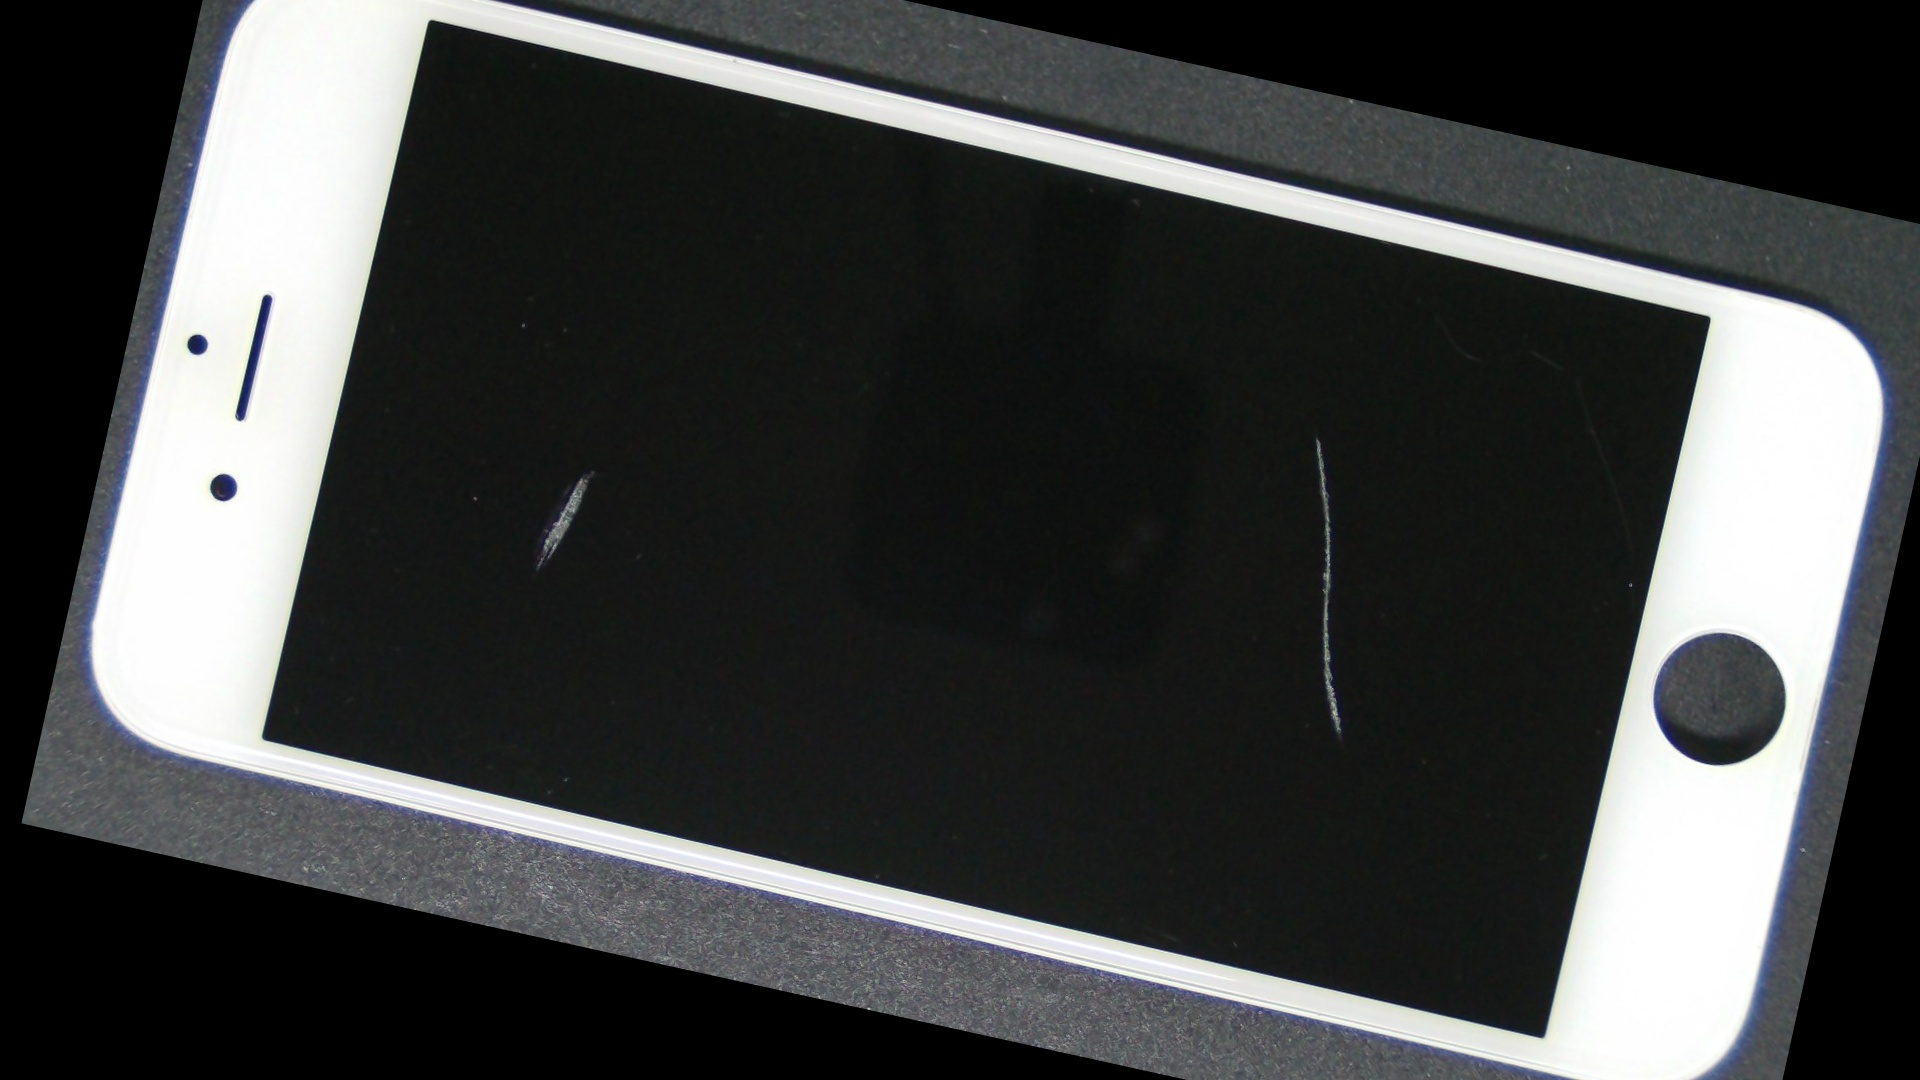oil: (702, 142, 1920, 731), (301, 161, 884, 778)
